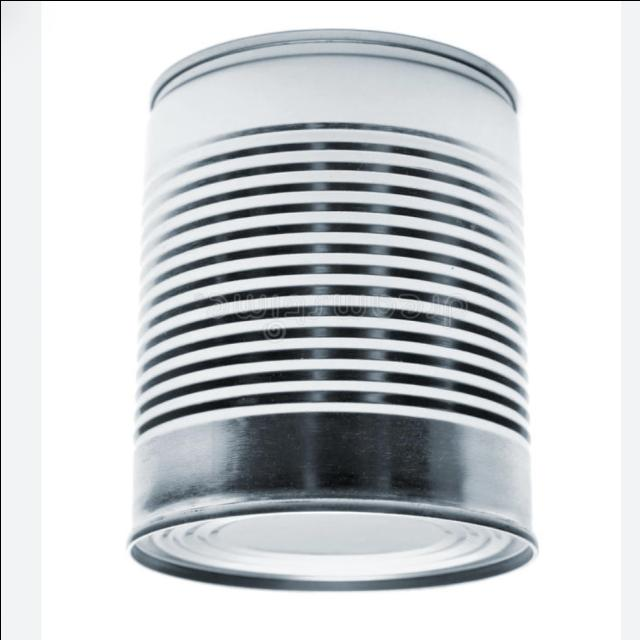can: (82, 19, 572, 615)
